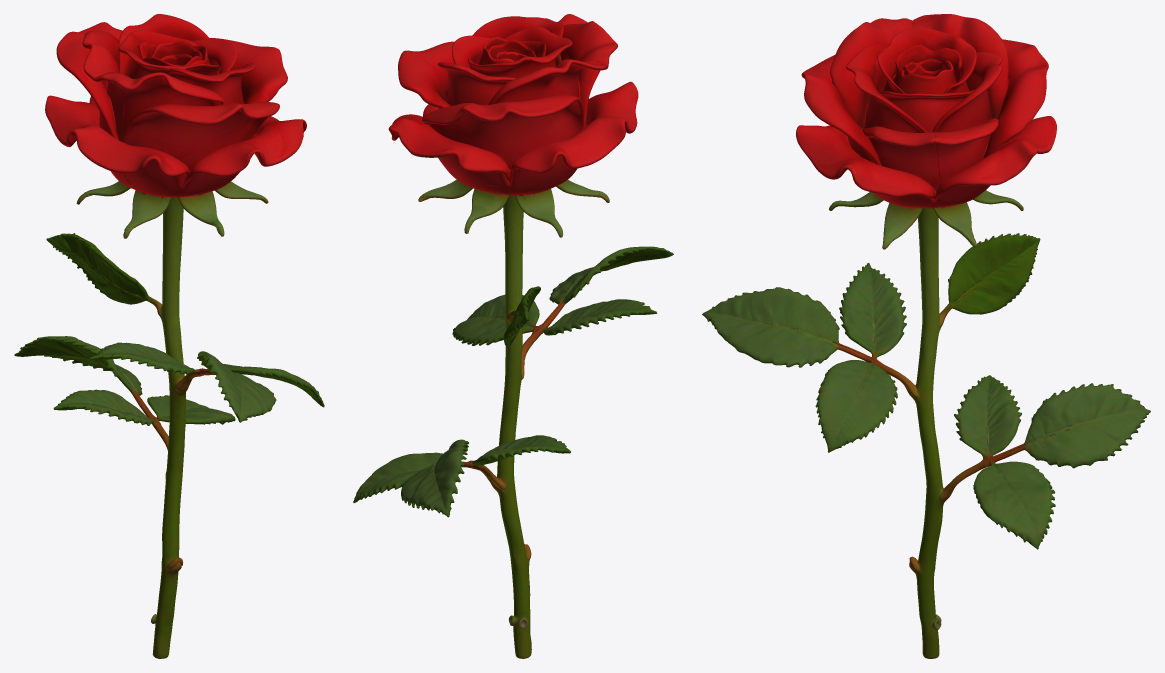
Rendered from redrose2.glb.
The picture shows the model from 3 angles, left to right: view 1: azimuth 30°, elevation 25°; view 2: azimuth 150°, elevation 25°; view 3: azimuth 270°, elevation 25°; orthographic projection.
Visible parts, largest first — view 1: tripo_node_e67b5a07-8140-450f-b2b3-c929f150bf03; view 2: tripo_node_e67b5a07-8140-450f-b2b3-c929f150bf03; view 3: tripo_node_e67b5a07-8140-450f-b2b3-c929f150bf03.
Part boxes in pixels (x1=…): tripo_node_e67b5a07-8140-450f-b2b3-c929f150bf03: x1=14, y1=14, x2=324, y2=658; tripo_node_e67b5a07-8140-450f-b2b3-c929f150bf03: x1=353, y1=14, x2=673, y2=658; tripo_node_e67b5a07-8140-450f-b2b3-c929f150bf03: x1=702, y1=14, x2=1150, y2=658.
Size of the model in its own units: 0.3674 by 0.9781 by 0.6479.
1 material, 1 textured.
